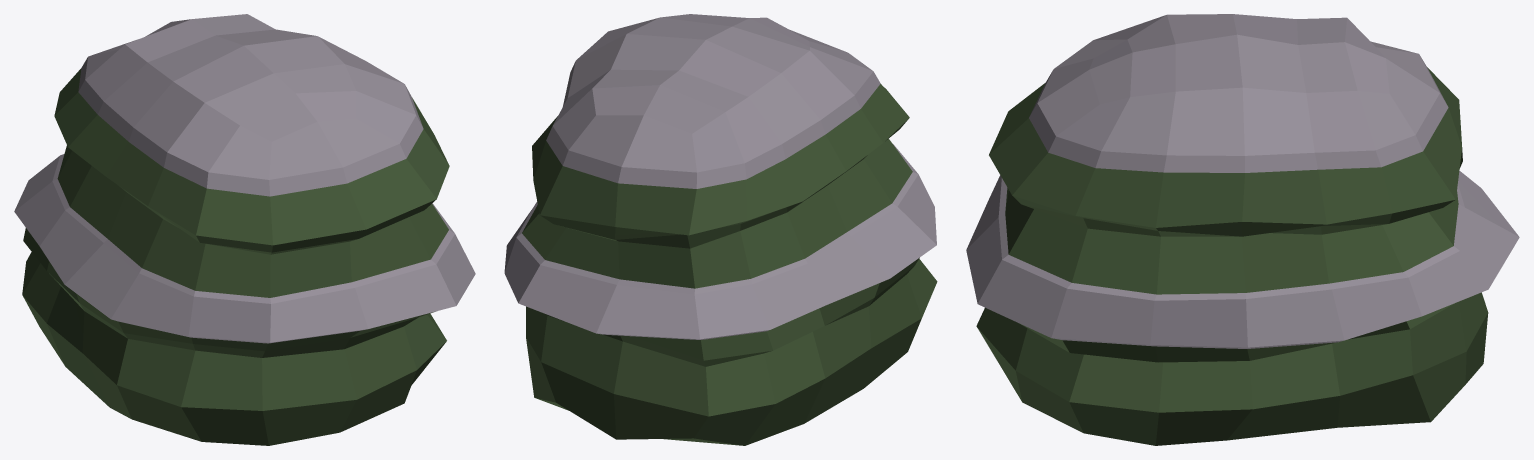
File: plant_bush_snow.glb
The picture shows the model from 3 angles, left to right: view 1: azimuth 30°, elevation 25°; view 2: azimuth 150°, elevation 25°; view 3: azimuth 270°, elevation 25°; orthographic projection. The views are drawn at different scales.
Visible parts, largest first — view 1: plant_bush_snow; view 2: plant_bush_snow; view 3: plant_bush_snow.
Part boxes in pixels (x1,y1,x2,y2): plant_bush_snow: [14, 14, 475, 445]; plant_bush_snow: [504, 14, 937, 445]; plant_bush_snow: [966, 14, 1519, 445].
Size of the model in its own units: 1.25 by 1.16 by 1.6.
